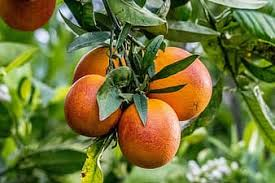orange: (139, 41, 213, 119), (120, 94, 182, 171), (68, 33, 134, 100), (64, 73, 121, 137)
